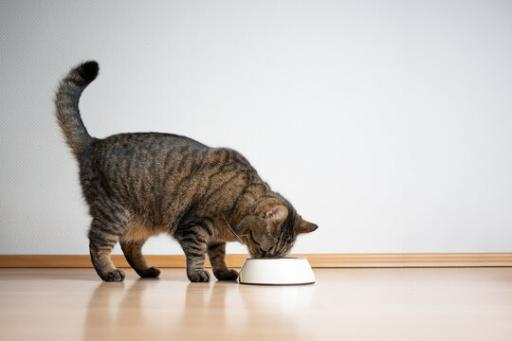cat_eating: (56, 61, 317, 284)
